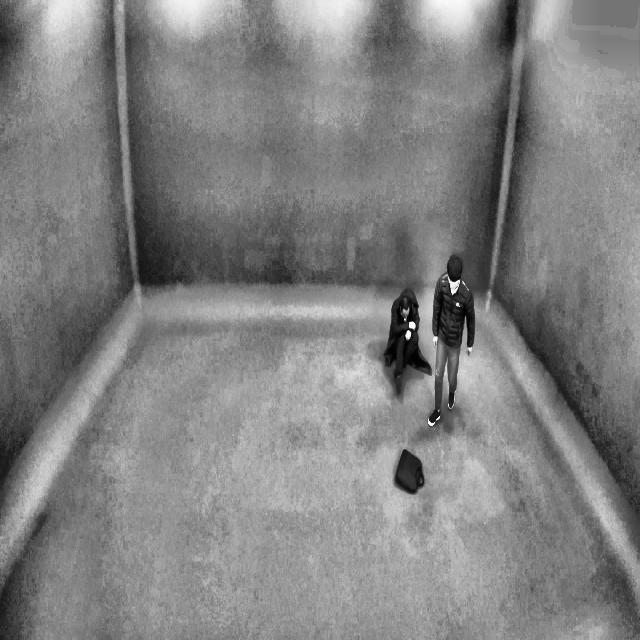assult: (380, 245, 474, 424), (388, 284, 437, 390)
